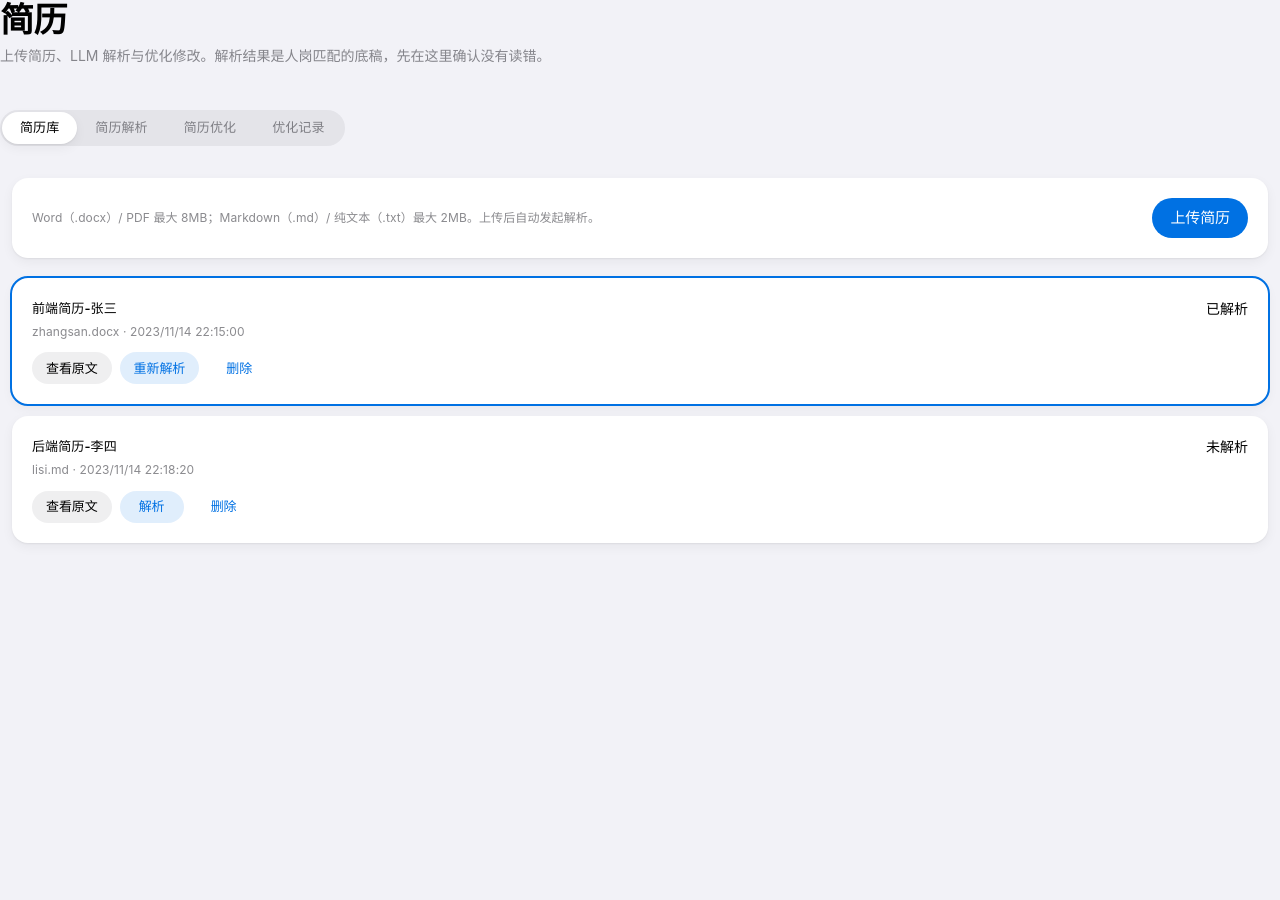
ResumesPage 简历库 › 删除要二次确认，确认后从列表消失
Expected: the button with aria-label "查看原文「前端简历-张三」" is shown, [32,352,112,384]
Click the button with aria-label "删除「前端简历-张三」" at (239, 368), box [207,352,271,384]
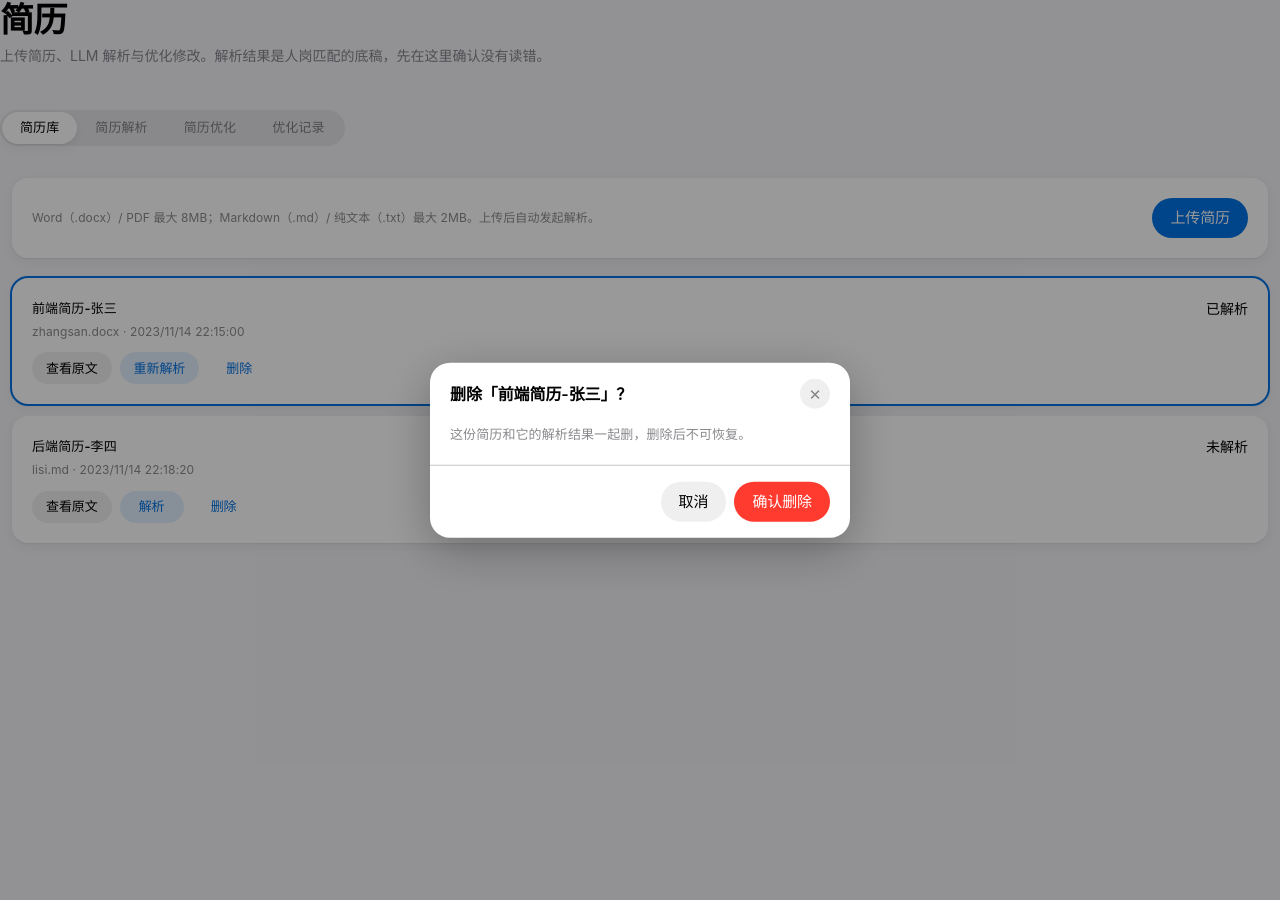
Result: the heading "删除「前端简历-张三」？" is shown at [450,382,632,405]
Click the button "确认删除" at (782, 501), box [734,481,830,521]
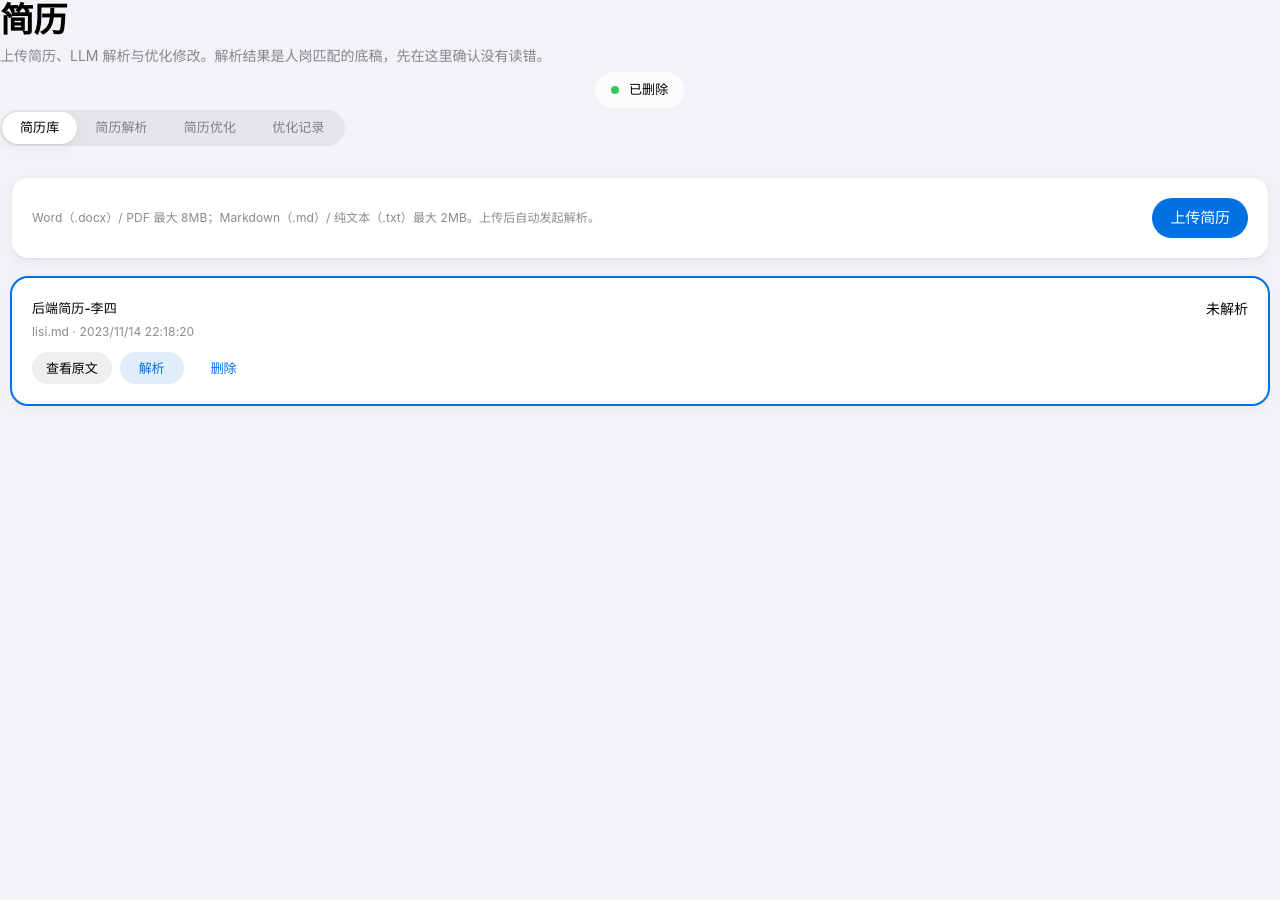
Expected: the button with aria-label "查看原文「后端简历-李四」" is shown, [32,352,112,384]
Result: the button "查看原文「前端简历-张三」" is gone
